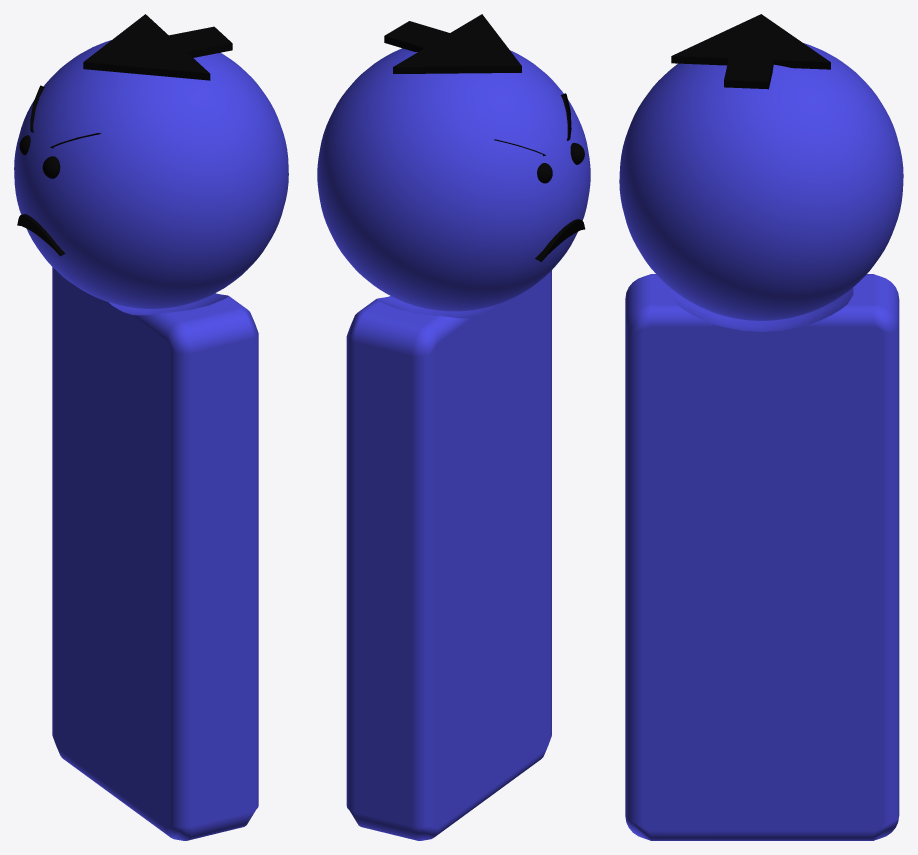
Rendered from purple_angry.obj.
The picture shows the model from 3 angles, left to right: view 1: azimuth 30°, elevation 25°; view 2: azimuth 150°, elevation 25°; view 3: azimuth 270°, elevation 25°; orthographic projection. The views are drawn at different scales.
Visible parts, largest first — view 1: 1_Curve.002_Curve.003, 5.002_Curve.002_Curve.003_5.002_Curve.002_Curve.003; view 2: 1_Curve.002_Curve.003, 5.002_Curve.002_Curve.003_5.002_Curve.002_Curve.003; view 3: 1_Curve.002_Curve.003, 5.002_Curve.002_Curve.003_5.002_Curve.002_Curve.003.
Part boxes in pixels (box(x1,y1,x2,y2)): 1_Curve.002_Curve.003: box(14, 40, 288, 840); 5.002_Curve.002_Curve.003_5.002_Curve.002_Curve.003: box(17, 14, 232, 256); 1_Curve.002_Curve.003: box(317, 48, 590, 840); 5.002_Curve.002_Curve.003_5.002_Curve.002_Curve.003: box(384, 14, 585, 261); 1_Curve.002_Curve.003: box(619, 43, 903, 840); 5.002_Curve.002_Curve.003_5.002_Curve.002_Curve.003: box(671, 14, 830, 89).
Bounding box in the file's own units: 0.1677 × 0.4993 × 0.1661.
